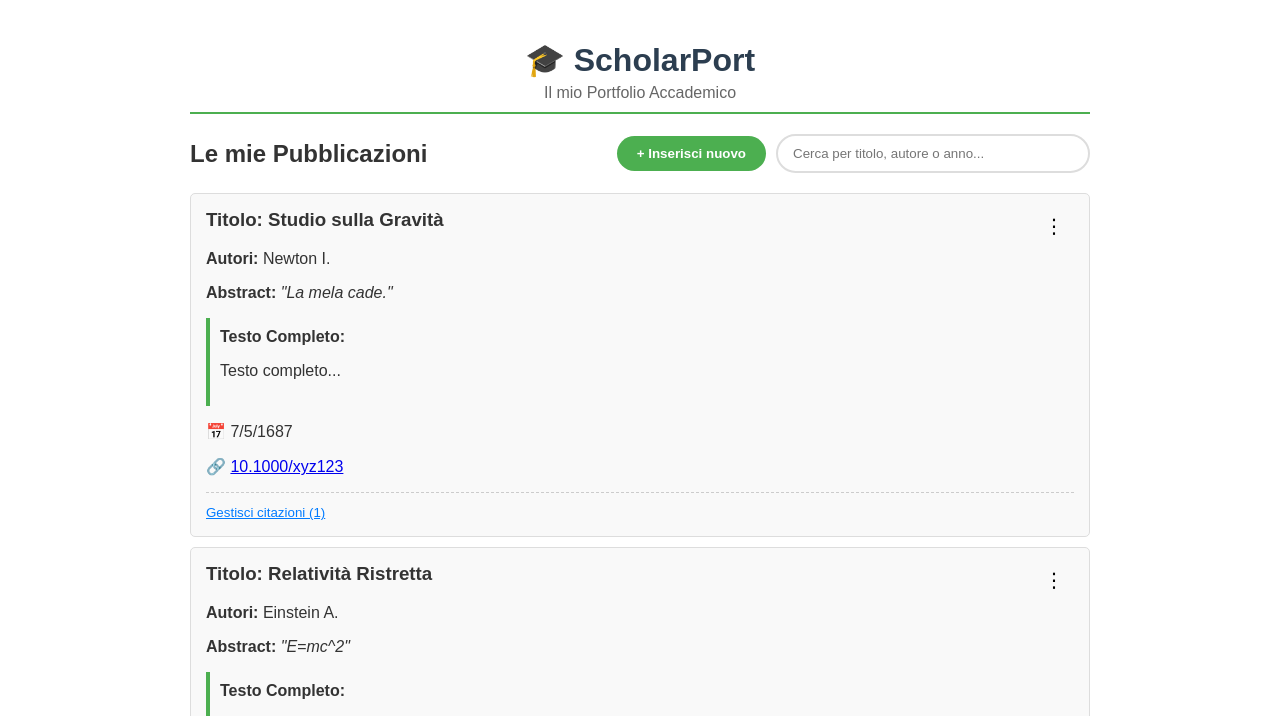
Test: ScholarPort Functional Tests › 4. Modifica Articolo › Apre il form precompilato quando si clicca modifica
The image size is (1280, 716).
Expected: the heading "Titolo: Studio sulla Gravità" is shown, top-left (206, 209), bottom-right (444, 230)
Click the button "⋮" in the row of "Studio sulla Gravità". click: coordinates (1054, 226)
box: top-left (1034, 209), bottom-right (1074, 243)
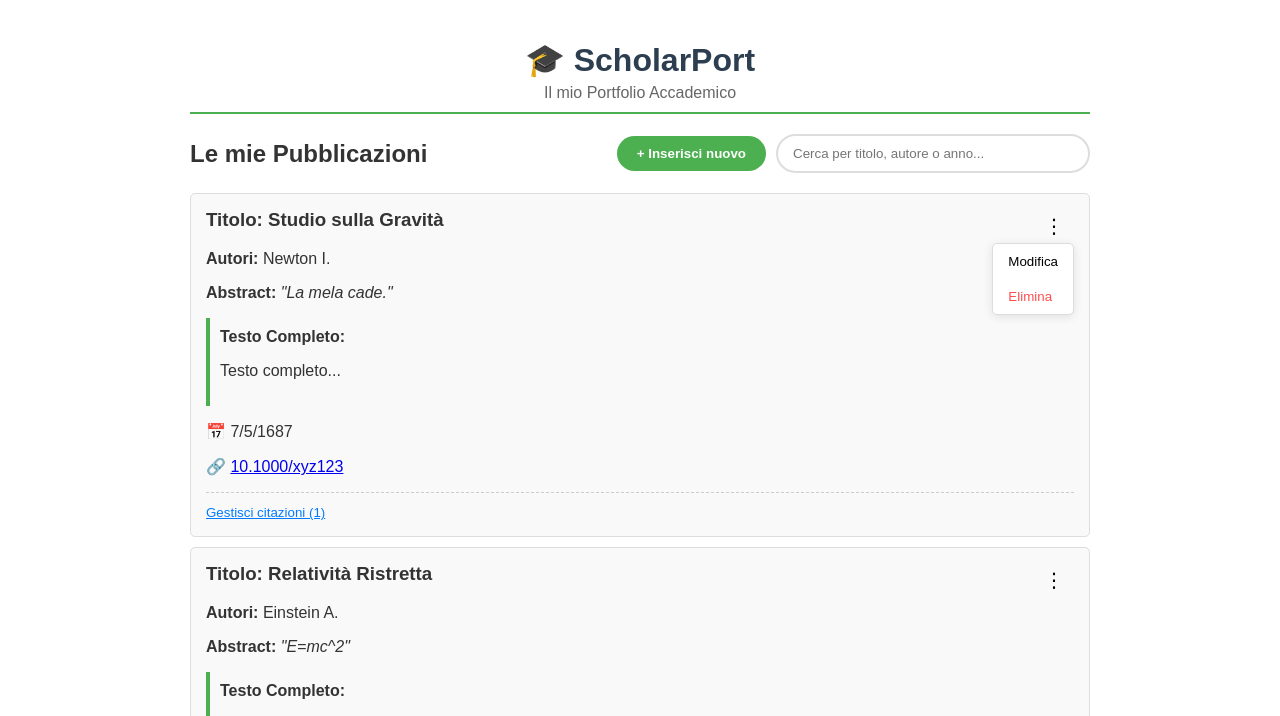
Click the button "Modifica". click: coordinates (1033, 262)
box: top-left (993, 244), bottom-right (1073, 279)
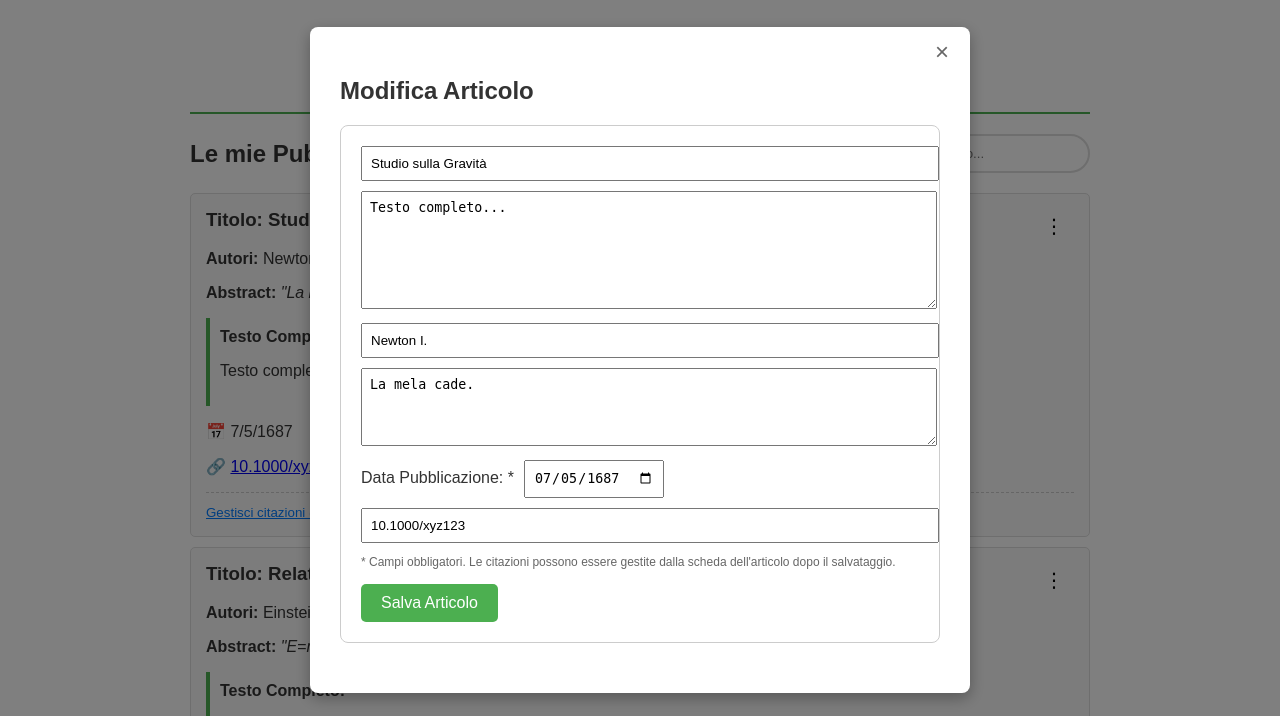
Result: the 1st field showing "Studio sulla Gravità" is shown at top-left (361, 146), bottom-right (939, 181)
Result: the 2nd field showing "Newton I." is shown at top-left (361, 323), bottom-right (939, 358)
